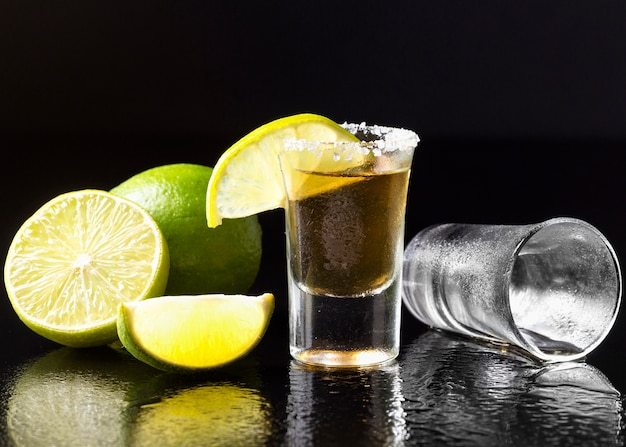alcohol: (208, 104, 418, 374)
